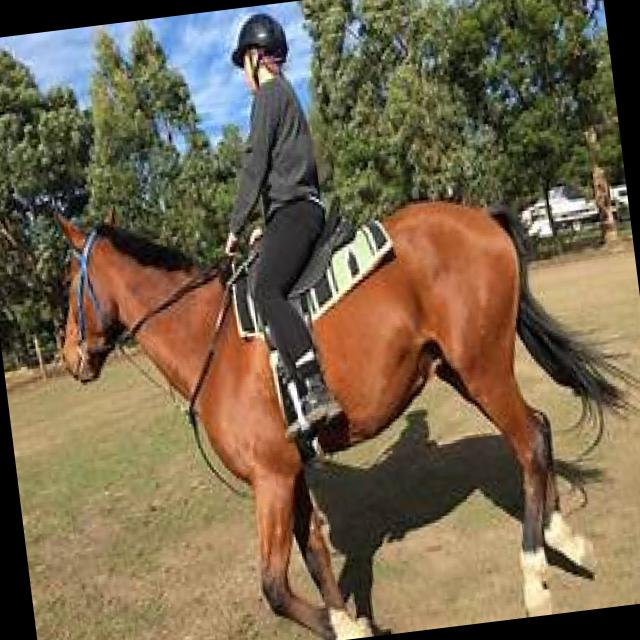animal: (40, 139, 640, 640)
